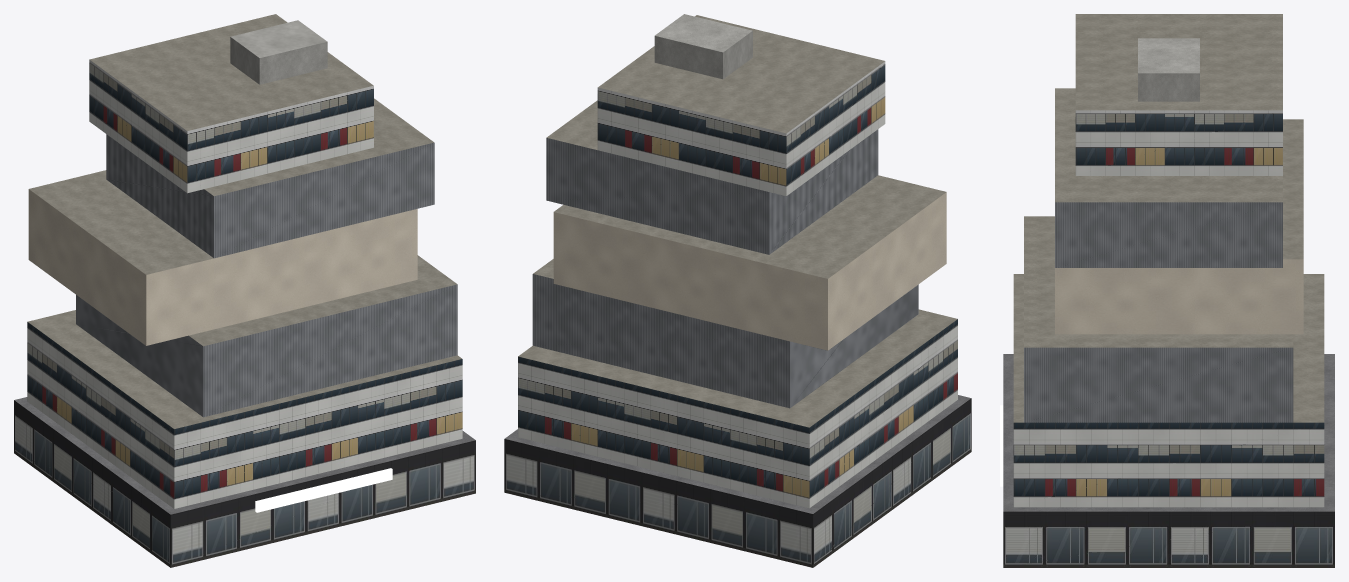
File: 083_museum_modern.glb
3 views of the same model, side by side, from view 1: azimuth 30°, elevation 25°; view 2: azimuth 150°, elevation 25°; view 3: azimuth 270°, elevation 25° (orthographic). The views are drawn at different scales.
Parts seen in each view (by area): view 1: 083_museum_modern; view 2: 083_museum_modern; view 3: 083_museum_modern.
Boxes of the visible parts, box(x1,y1,x2,y2) form: 083_museum_modern: box(14, 14, 475, 567); 083_museum_modern: box(504, 14, 971, 567); 083_museum_modern: box(1000, 14, 1334, 567).
Bounding box in the file's own units: 36 × 48 × 32.3.
Materials: 8 (7 with a texture image).
